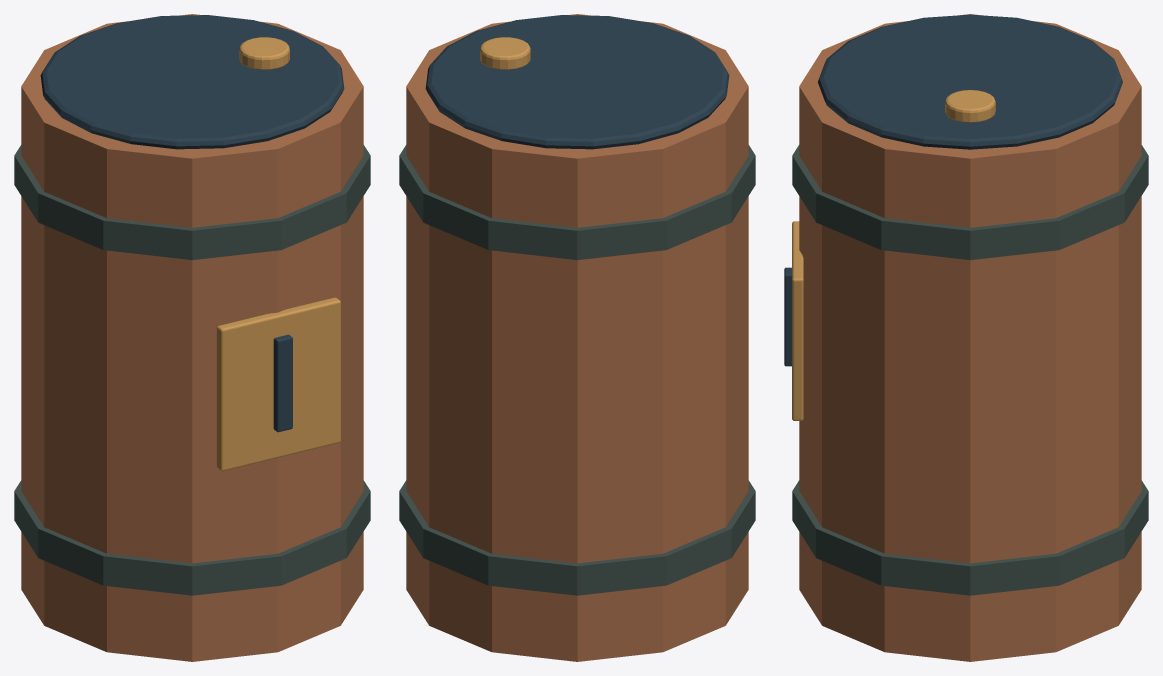
File: oil_barrel.glb
3 views of the same model, side by side, from view 1: azimuth 30°, elevation 25°; view 2: azimuth 150°, elevation 25°; view 3: azimuth 270°, elevation 25° (orthographic).
Parts seen in each view (by area): view 1: Cap bung.001; view 2: Cap bung.001; view 3: Cap bung.001.
Boxes of the visible parts, bbox=[...] form: Cap bung.001: bbox=[14, 14, 370, 661]; Cap bung.001: bbox=[399, 14, 755, 661]; Cap bung.001: bbox=[784, 14, 1148, 661].
Bounding box in the file's own units: 0.77 × 1.25 × 0.787.
